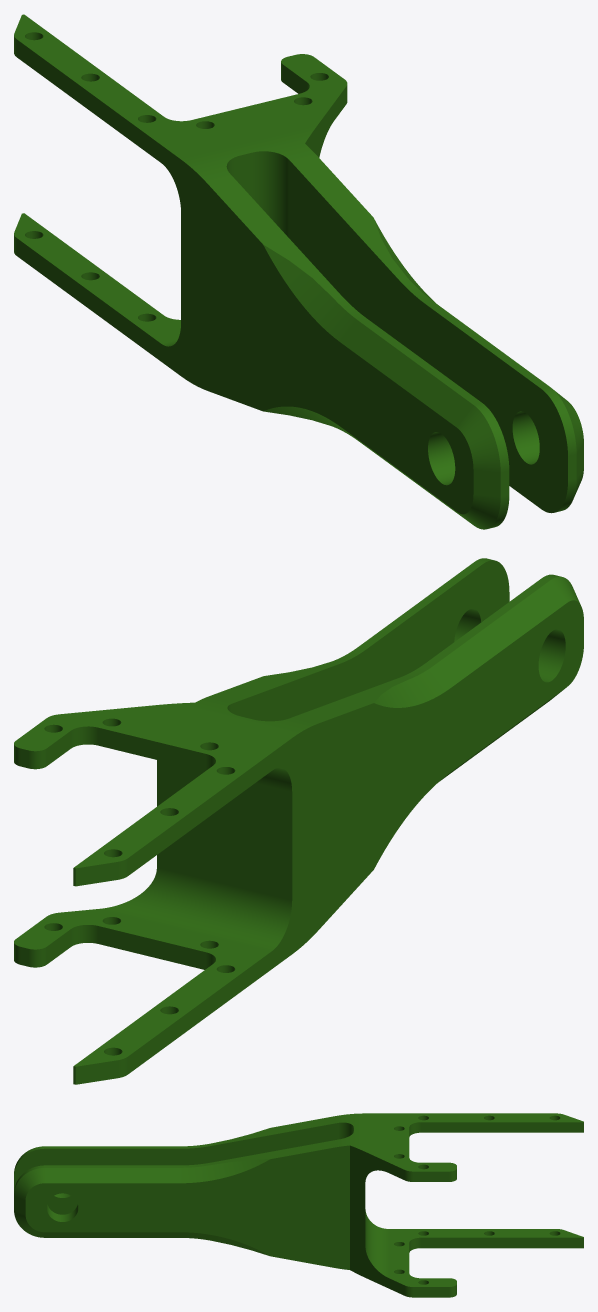
File: left_femur.dae
The picture shows the model from 3 angles, top to bottom: view 1: azimuth 30°, elevation 25°; view 2: azimuth 150°, elevation 25°; view 3: azimuth 270°, elevation 25°; orthographic projection. The views are drawn at different scales.
Parts seen in each view (by area): view 1: ID2; view 2: ID2; view 3: ID2.
Part boxes in pixels (<box>): ID2: <box>14,14,583,529</box>; ID2: <box>14,558,583,1084</box>; ID2: <box>14,1113,583,1297</box>.
Size of the model in its own units: 0.0356 by 0.1476 by 0.036.
